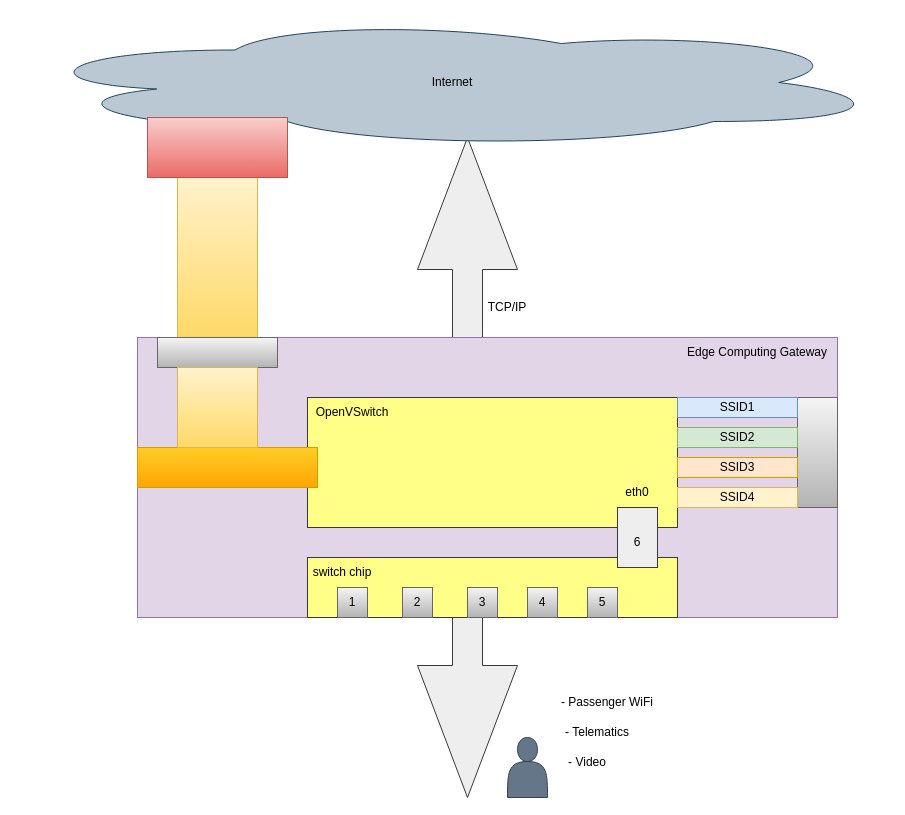
This 905x815 diagram has some shape labels left out. Each missing label, with the centre of its shape:
AWS/EC2: the point at 217,147
LTE: the point at 217,352
TAP0: the point at 227,467
UDP socket: the point at 217,407
UDP Tunnel: the point at 217,257
WiFi Radio: the point at 817,452
